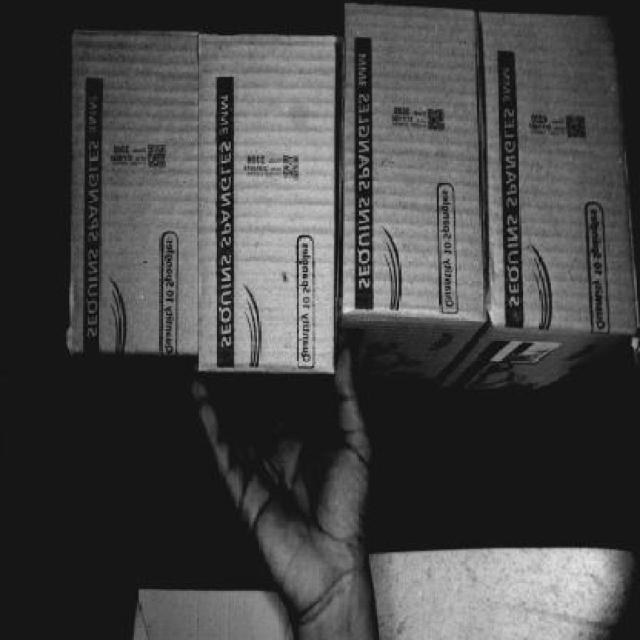cardboxes: (344, 8, 473, 314), (488, 20, 609, 329)
